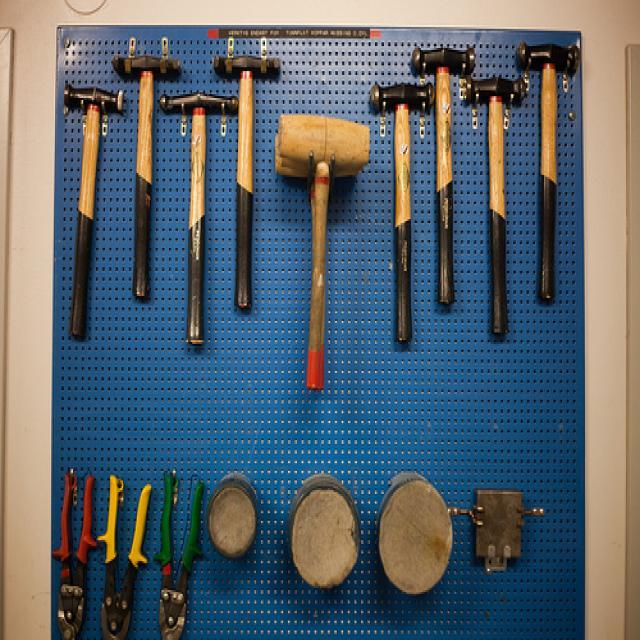hammer: (266, 100, 368, 410), (453, 70, 542, 344), (362, 72, 440, 361), (211, 43, 278, 346), (409, 35, 477, 328), (514, 28, 583, 316), (54, 78, 128, 342), (162, 82, 232, 360), (110, 49, 174, 304)
pliers: (150, 468, 212, 640), (94, 465, 153, 640), (50, 460, 101, 640)
